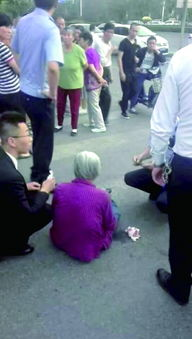10+: (1, 1, 192, 311)
down: (41, 145, 130, 269)
